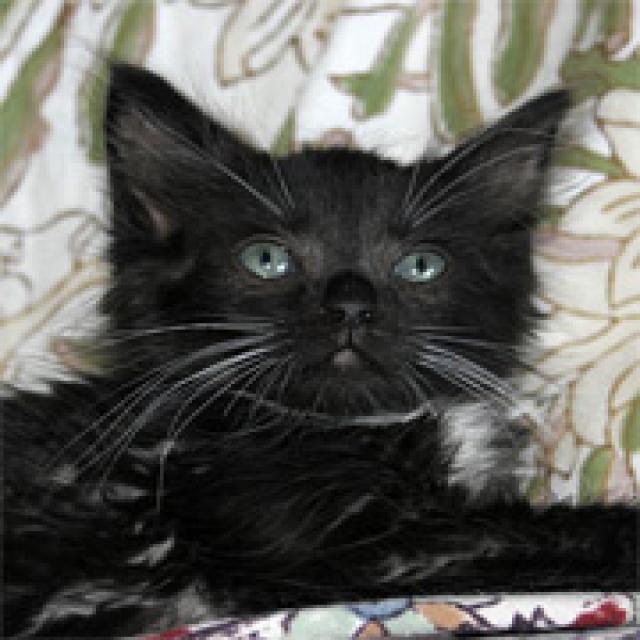Cats: (0, 57, 636, 636)
